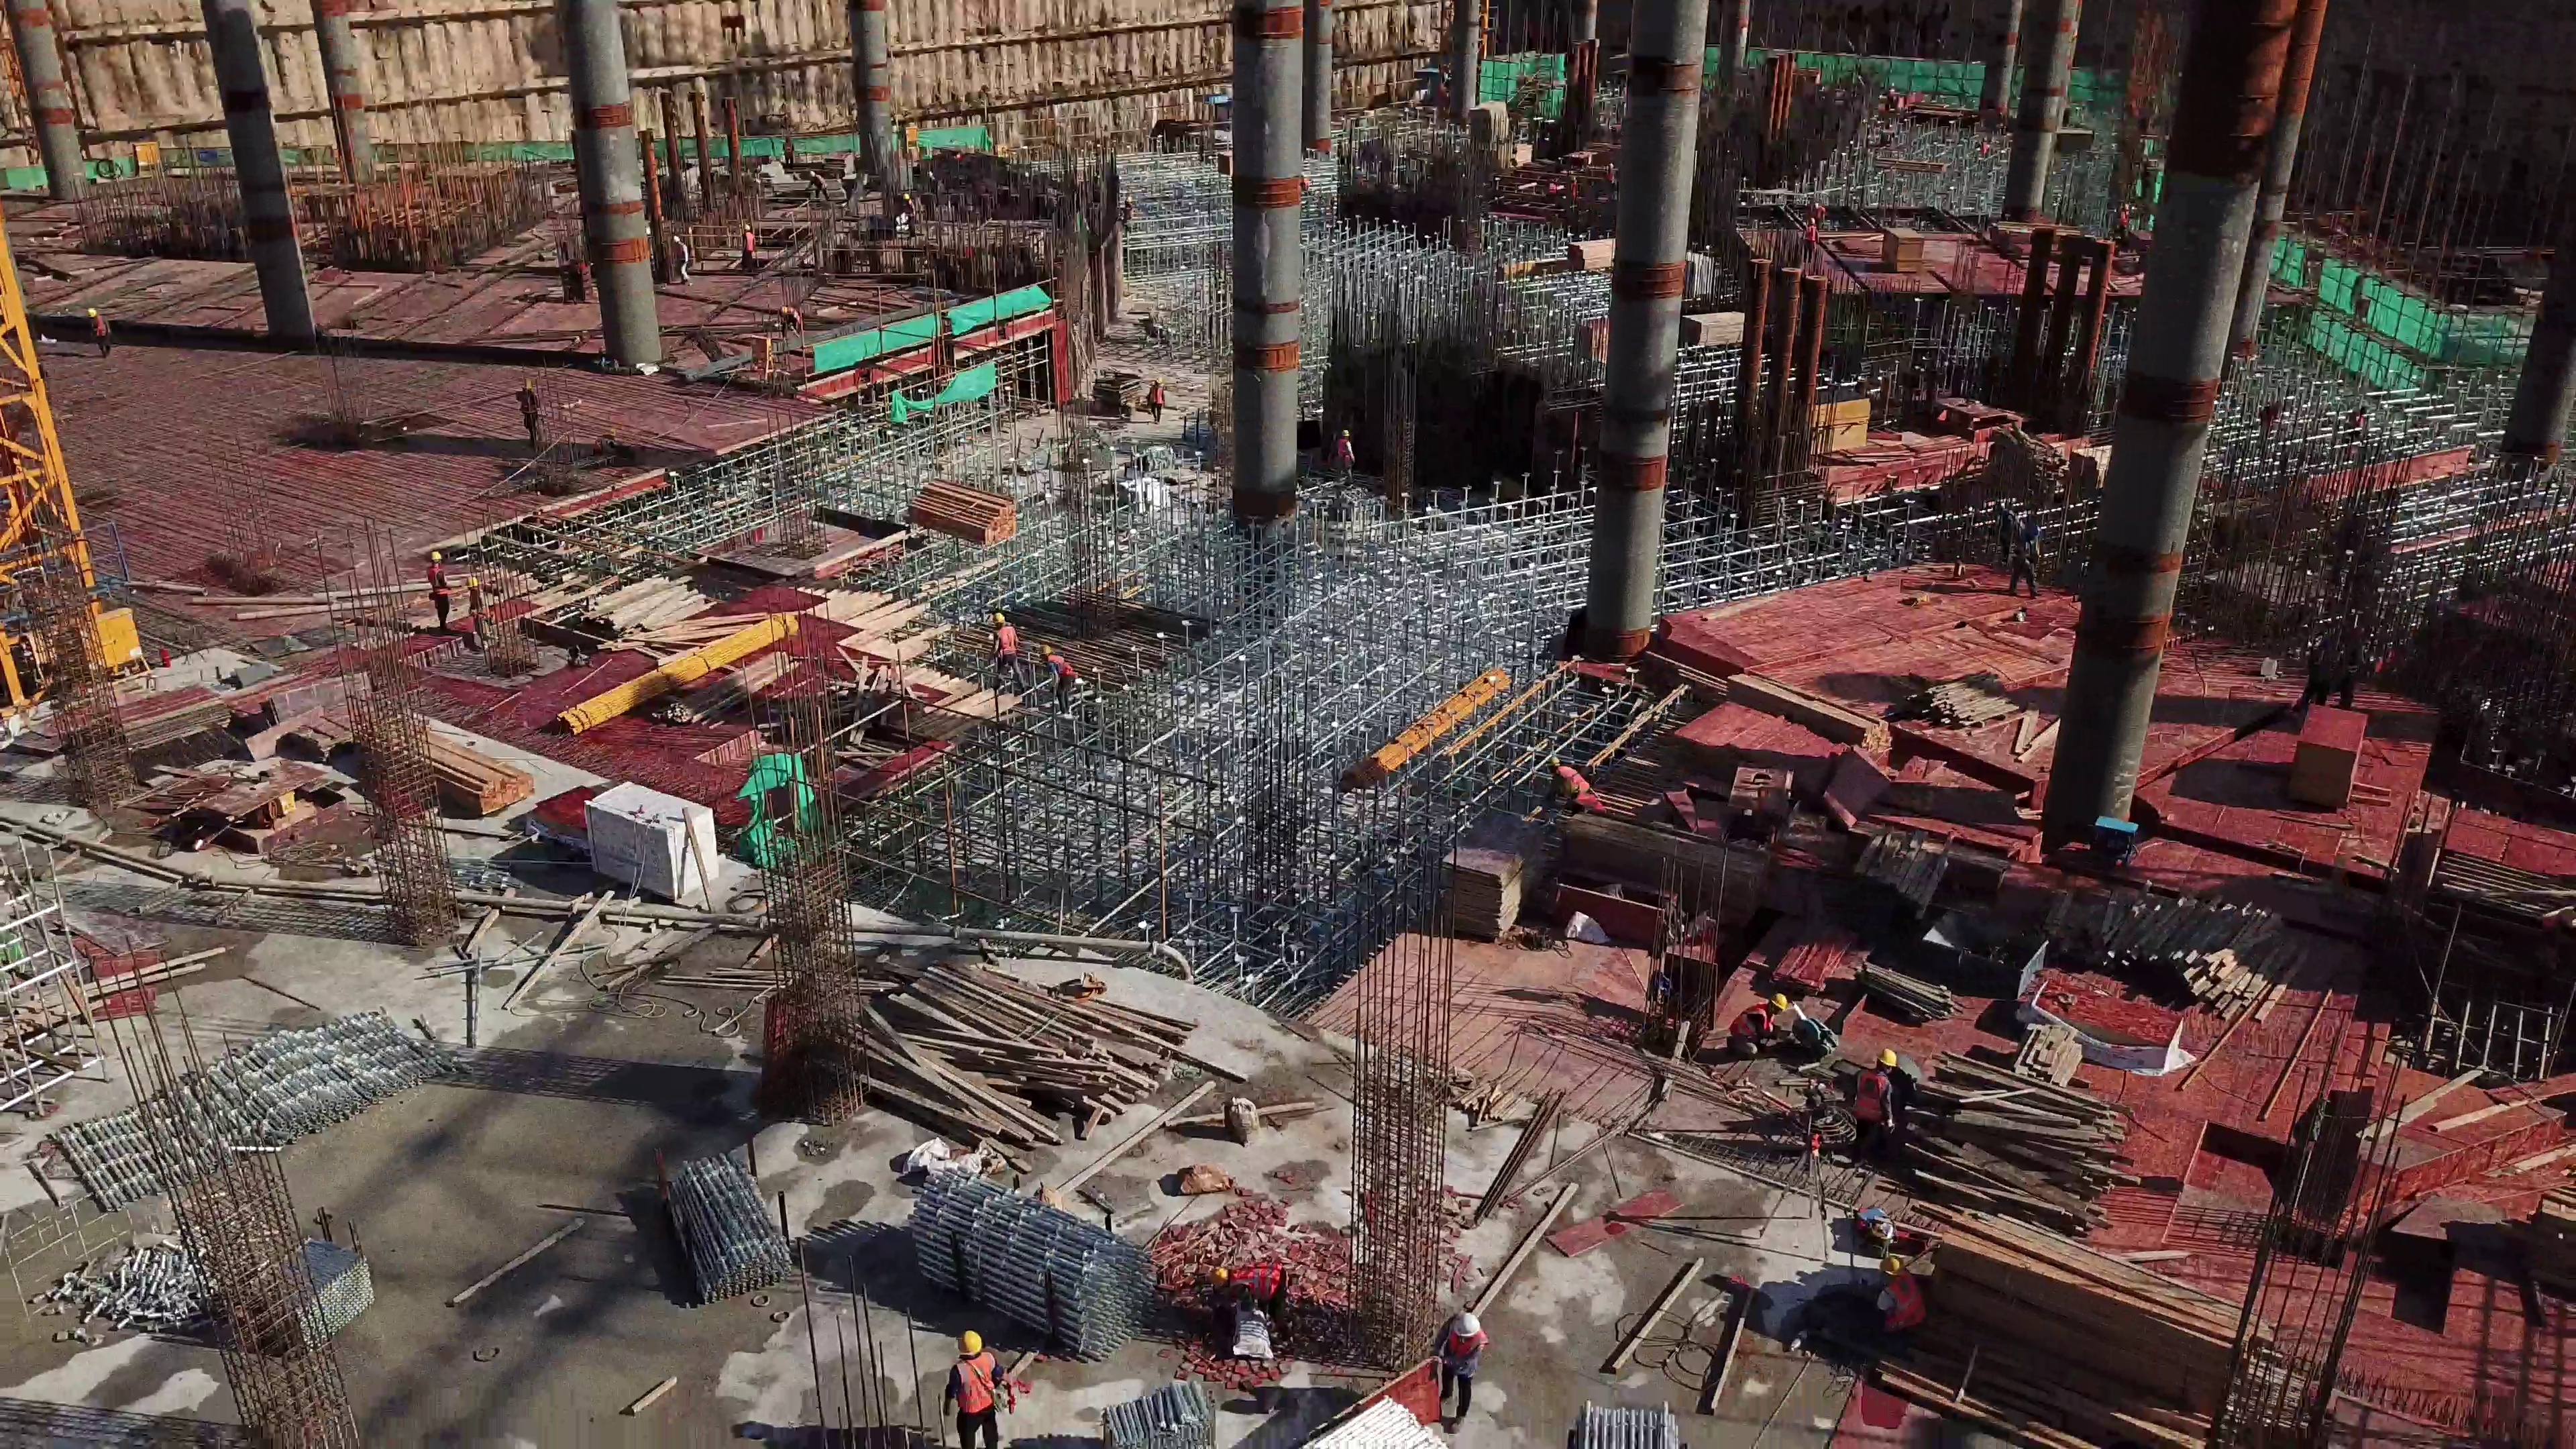board: (1434, 805, 1536, 934), (113, 676, 237, 745), (2295, 700, 2367, 798), (1573, 315, 1610, 370), (1882, 225, 1923, 273)
cutter: (1788, 1015, 1838, 1057)
ebox: (55, 606, 155, 704)
helmet: (1198, 1264, 1230, 1290), (1874, 1047, 1905, 1071), (950, 1335, 984, 1359), (1877, 1253, 1906, 1279), (1452, 1313, 1474, 1334), (1769, 994, 1790, 1014)
person: (943, 1333, 1005, 1449), (1206, 1265, 1289, 1346), (1431, 1309, 1481, 1433), (1849, 1051, 1898, 1156), (1871, 1255, 1923, 1335), (1728, 994, 1786, 1058), (987, 610, 1025, 689), (2006, 525, 2040, 601), (1039, 644, 1071, 721), (2303, 634, 2335, 709), (425, 549, 451, 636), (466, 576, 492, 649), (1537, 755, 1586, 791), (519, 380, 543, 447), (1564, 792, 1606, 827), (85, 309, 112, 364), (1332, 429, 1356, 481), (2345, 628, 2361, 708), (672, 237, 691, 286), (1145, 375, 1165, 419), (741, 222, 759, 275), (806, 172, 830, 203), (778, 305, 801, 339), (1120, 197, 1140, 233), (900, 192, 916, 233), (782, 136, 794, 169)
scaffold: (50, 1013, 466, 1197), (886, 1170, 1150, 1354), (57, 1242, 394, 1357), (1085, 1379, 1224, 1449), (1558, 1391, 1701, 1449)
vest: (1843, 1069, 1891, 1134), (1229, 1264, 1287, 1303), (955, 1355, 992, 1415), (1880, 1277, 1925, 1325), (1730, 1004, 1781, 1046), (1443, 1328, 1483, 1379), (1551, 768, 1591, 796), (993, 625, 1019, 661)
wood: (1946, 1211, 2244, 1449), (851, 972, 1185, 1136), (1896, 1058, 2116, 1196), (2086, 900, 2313, 1010), (373, 715, 561, 818), (1897, 669, 2066, 762), (533, 583, 715, 646), (908, 482, 1028, 551), (1860, 838, 1955, 920)
